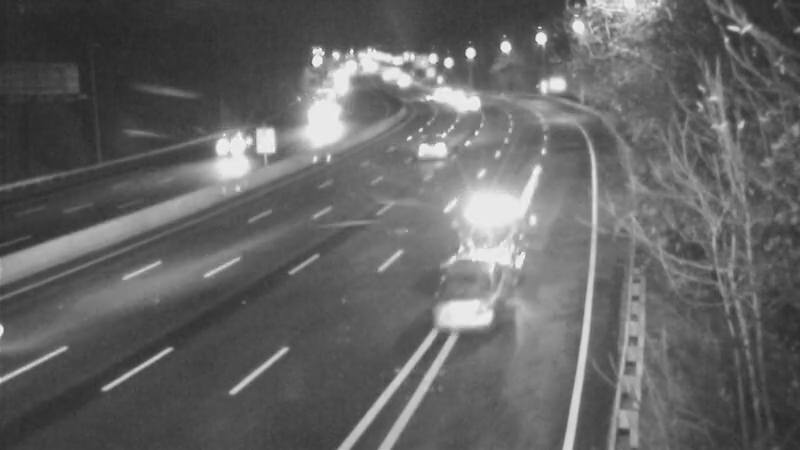vehicle: (396, 112, 476, 192), (439, 209, 519, 289), (184, 110, 264, 190), (429, 71, 479, 121), (401, 73, 451, 123), (440, 74, 490, 124), (295, 94, 345, 144)
